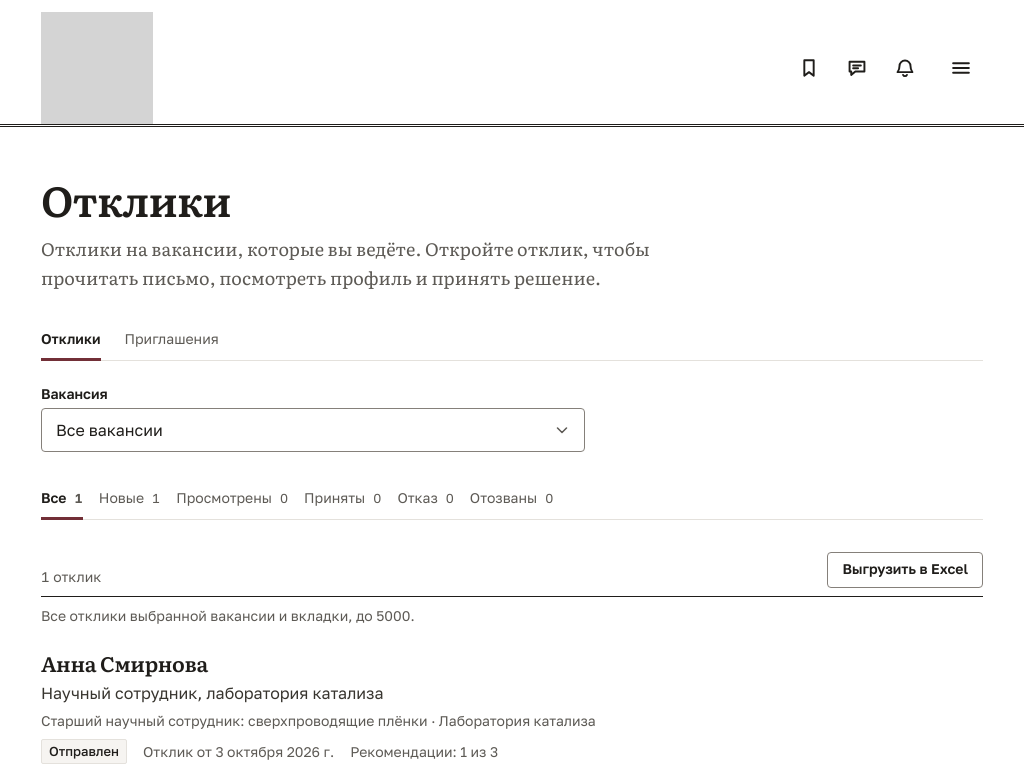
Test: candidates list › export to a file › shows the server text when the export fails for another reason
Click the button "Выгрузить в Excel" at (905, 570), box [828,552,983,588]
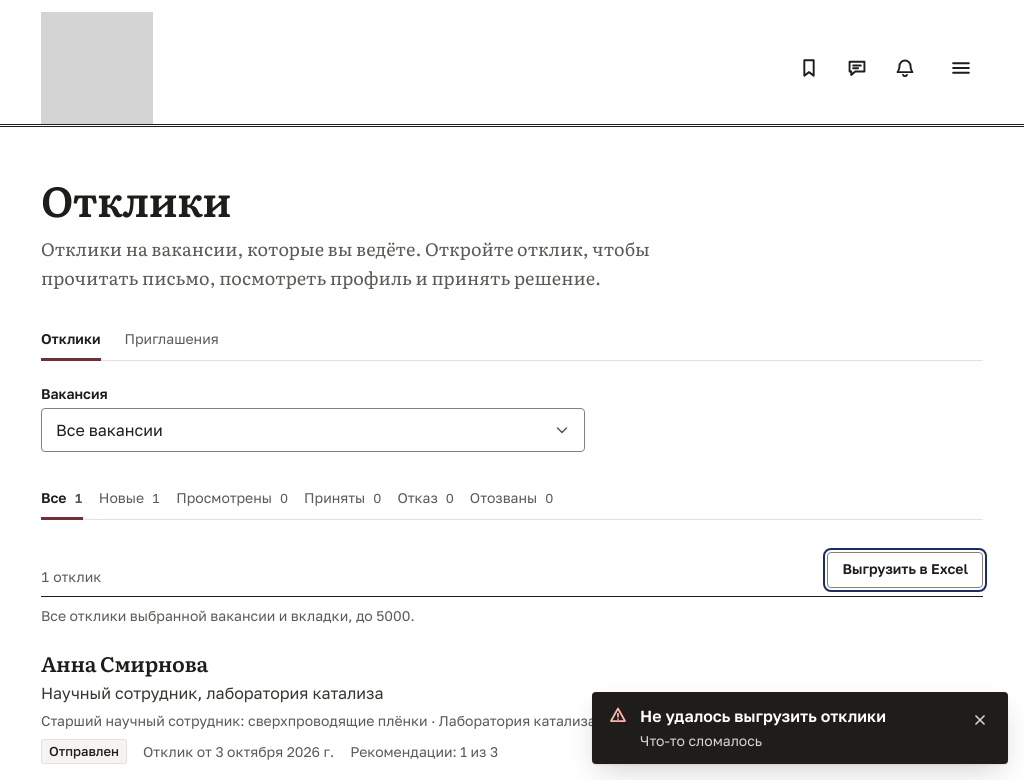
Check: the text "Не удалось выгрузить отклики" is shown, box [640,706,886,726]
